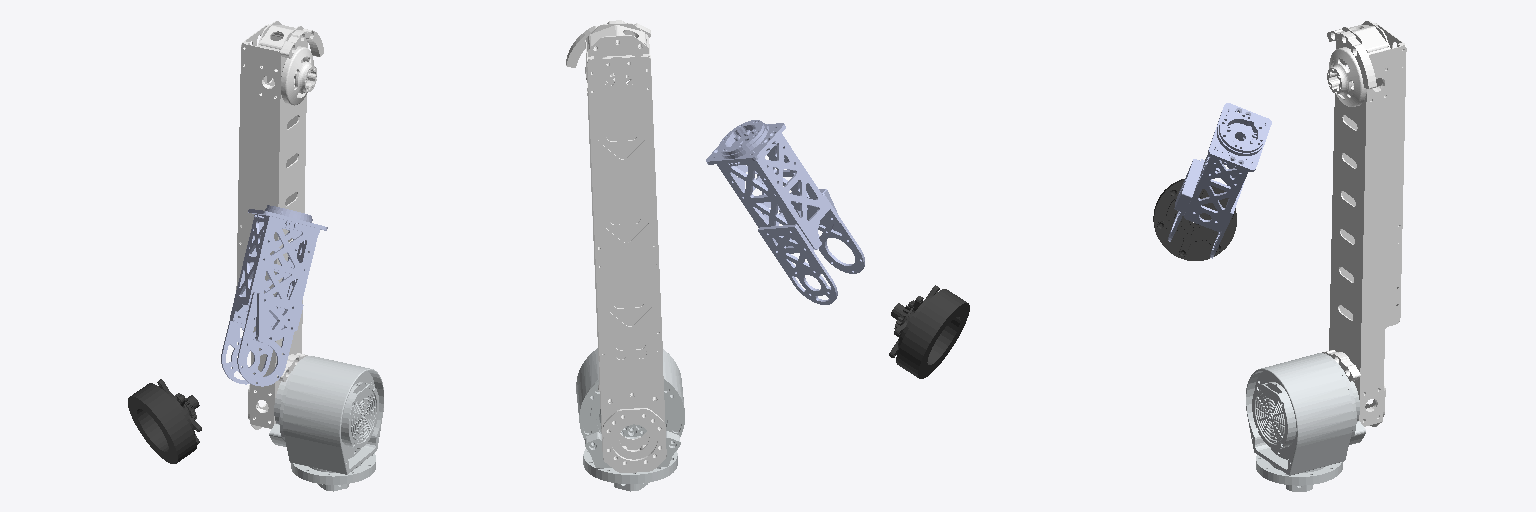
robot.urdf — robo_arm3:
<?xml version="1.0" encoding="utf-8"?>
<!-- This URDF was automatically created by SolidWorks to URDF Exporter! Originally created by Stephen Brawner (brawner@gmail.com) 
     Commit Version: 1.6.0-4-g7f85cfe  Build Version: 1.6.7995.38578
     For more information, please see http://wiki.ros.org/sw_urdf_exporter -->
<robot
  name="robo_arm3">
  <link
    name="base_link">
    <inertial>
      <origin
        xyz="2.77555756156289E-17 1.38777878078145E-17 0.0237295145896128"
        rpy="0 0 0" />
      <mass
        value="0.221707850812672" />
      <inertia
        ixx="0.000129009433567113"
        ixy="-2.11758236813575E-22"
        ixz="2.31857193146065E-21"
        iyy="0.000129009433567113"
        iyz="-3.66288949024306E-21"
        izz="0.000250000920269705" />
    </inertial>
    <visual>
      <origin
        xyz="0 0 0"
        rpy="0 0 0" />
      <geometry>
        <mesh
          filename="package://robo_arm3/meshes/base_link.STL" />
      </geometry>
      <material
        name="">
        <color
          rgba="0.898039215686275 0.917647058823529 0.929411764705882 1" />
      </material>
    </visual>
    <collision>
      <origin
        xyz="0 0 0"
        rpy="0 0 0" />
      <geometry>
        <mesh
          filename="package://robo_arm3/meshes/base_link.STL" />
      </geometry>
    </collision>
  </link>
  <link
    name="link1">
    <inertial>
      <origin
        xyz="0.00885893377945006 0.00538814689358558 0.0542497111605954"
        rpy="0 0 0" />
      <mass
        value="0.862306517383086" />
      <inertia
        ixx="0.00122055217459291"
        ixy="0.000188783434567852"
        ixz="-2.09440902519105E-05"
        iyy="0.00102347352205245"
        iyz="-1.28925300505736E-05"
        izz="0.00083542296676728" />
    </inertial>
    <visual>
      <origin
        xyz="0 0 0"
        rpy="0 0 0" />
      <geometry>
        <mesh
          filename="package://robo_arm3/meshes/link1.STL" />
      </geometry>
      <material
        name="">
        <color
          rgba="0.898039215686275 0.917647058823529 0.929411764705882 1" />
      </material>
    </visual>
    <collision>
      <origin
        xyz="0 0 0"
        rpy="0 0 0" />
      <geometry>
        <mesh
          filename="package://robo_arm3/meshes/link1.STL" />
      </geometry>
    </collision>
  </link>
  <joint
    name="joint1"
    type="revolute">
    <origin
      xyz="0 0 0.0265"
      rpy="0 0 1.5913" />
    <parent
      link="base_link" />
    <child
      link="link1" />
    <axis
      xyz="0 0 1" />
    <limit
      lower="-3.14"
      upper="3.14"
      effort="100"
      velocity="1.0" />
  </joint>
  <link
    name="link2">
    <inertial>
      <origin
        xyz="0.00914938709159289 -0.223210077607143 0.0158533190523229"
        rpy="0 0 0" />
      <mass
        value="0.661322303036156" />
      <inertia
        ixx="0.00637293487461846"
        ixy="0.000224921528381304"
        ixz="-7.43228522352615E-07"
        iyy="0.000334976142936537"
        iyz="2.15552142797675E-05"
        izz="0.00656644630734935" />
    </inertial>
    <visual>
      <origin
        xyz="0 0 0"
        rpy="0 0 0" />
      <geometry>
        <mesh
          filename="package://robo_arm3/meshes/link2.STL" />
      </geometry>
      <material
        name="">
        <color
          rgba="1 1 1 1" />
      </material>
    </visual>
    <collision>
      <origin
        xyz="0 0 0"
        rpy="0 0 0" />
      <geometry>
        <mesh
          filename="package://robo_arm3/meshes/link2.STL" />
      </geometry>
    </collision>
  </link>
  <joint
    name="joint2"
    type="revolute">
    <origin
      xyz="0.047634 0.028871 0.063"
      rpy="-1.5708 0 -1.0259" />
    <parent
      link="link1" />
    <child
      link="link2" />
    <axis
      xyz="0 0 1" />
    <limit
      lower="-3.14"
      upper="3.14"
      effort="100"
      velocity="1.0" />
  </joint>
  <link
    name="link3">
    <inertial>
      <origin
        xyz="-0.0620023031038545 -0.0455638487423945 0.0327349362439363"
        rpy="0 0 0" />
      <mass
        value="0.807641394249707" />
      <inertia
        ixx="0.00066767872189446"
        ixy="2.25053365790237E-05"
        ixz="3.15011398901779E-05"
        iyy="0.000733848433332727"
        iyz="4.66819215050634E-05"
        izz="0.000992283520608319" />
    </inertial>
    <visual>
      <origin
        xyz="0 0 0"
        rpy="0 0 0" />
      <geometry>
        <mesh
          filename="package://robo_arm3/meshes/link3.STL" />
      </geometry>
      <material
        name="">
        <color
          rgba="1 1 1 1" />
      </material>
    </visual>
    <collision>
      <origin
        xyz="0 0 0"
        rpy="0 0 0" />
      <geometry>
        <mesh
          filename="package://robo_arm3/meshes/link3.STL" />
      </geometry>
    </collision>
  </link>
  <joint
    name="joint3"
    type="revolute">
    <origin
      xyz="0.014293 -0.37973 -0.01983"
      rpy="3.1416 0 0" />
    <parent
      link="link2" />
    <child
      link="link3" />
    <axis
      xyz="0 0 1" />
    <limit
      lower="-3.14"
      upper="3.14"
      effort="100"
      velocity="1.0" />
  </joint>
  <link
    name="link4">
    <inertial>
      <origin
        xyz="-0.00188052009846137 -0.00108368002525205 0.05709127235147"
        rpy="0 0 0" />
      <mass
        value="0.22514701547929" />
      <inertia
        ixx="0.000159095632046613"
        ixy="1.18532482413415E-05"
        ixz="-2.80019629570859E-07"
        iyy="0.000157576632192916"
        iyz="-1.45753455561238E-06"
        izz="6.58406672377939E-05" />
    </inertial>
    <visual>
      <origin
        xyz="0 0 0"
        rpy="0 0 0" />
      <geometry>
        <mesh
          filename="package://robo_arm3/meshes/link4.STL" />
      </geometry>
      <material
        name="">
        <color
          rgba="0.792156862745098 0.819607843137255 0.933333333333333 1" />
      </material>
    </visual>
    <collision>
      <origin
        xyz="0 0 0"
        rpy="0 0 0" />
      <geometry>
        <mesh
          filename="package://robo_arm3/meshes/link4.STL" />
      </geometry>
    </collision>
  </link>
  <joint
    name="joint4"
    type="revolute">
    <origin
      xyz="-0.12605 -0.10488 0.039"
      rpy="2.1056 1.5708 0" />
    <parent
      link="link3" />
    <child
      link="link4" />
    <axis
      xyz="0 0 1" />
    <limit
      lower="-3.14"
      upper="3.14"
      effort="100"
      velocity="1.0" />
  </joint>
  <link
    name="link5">
    <inertial>
      <origin
        xyz="0.0149119254197924 -0.0365087059040325 -0.0323232557121219"
        rpy="0 0 0" />
      <mass
        value="0.273022738659567" />
      <inertia
        ixx="8.05273171840646E-05"
        ixy="7.07220189991853E-06"
        ixz="3.18027081368875E-07"
        iyy="6.39660904488315E-05"
        iyz="1.43872630376063E-07"
        izz="9.49728955887301E-05" />
    </inertial>
    <visual>
      <origin
        xyz="0 0 0"
        rpy="0 0 0" />
      <geometry>
        <mesh
          filename="package://robo_arm3/meshes/link5.STL" />
      </geometry>
      <material
        name="">
        <color
          rgba="0.698039215686274 0.698039215686274 0.698039215686274 1" />
      </material>
    </visual>
    <collision>
      <origin
        xyz="0 0 0"
        rpy="0 0 0" />
      <geometry>
        <mesh
          filename="package://robo_arm3/meshes/link5.STL" />
      </geometry>
    </collision>
  </link>
  <joint
    name="joint5"
    type="revolute">
    <origin
      xyz="0.022442 0.021385 0.1572"
      rpy="-1.5708 0.40513 -0.80951" />
    <parent
      link="link4" />
    <child
      link="link5" />
    <axis
      xyz="0 0 -1" />
    <limit
      lower="-3.14"
      upper="3.14"
      effort="100"
      velocity="1.0" />
  </joint>
  <link
    name="link6">
    <inertial>
      <origin
        xyz="2.61474175644594E-12 -1.08160147505032E-11 0.0209120782492087"
        rpy="0 0 0" />
      <mass
        value="0.195591531279453" />
      <inertia
        ixx="0.000110653138879896"
        ixy="-2.25141357380193E-17"
        ixz="7.45388993583784E-19"
        iyy="0.000110653138879876"
        iyz="-3.25430058335102E-18"
        izz="0.000192692857611488" />
    </inertial>
    <visual>
      <origin
        xyz="0 0 0"
        rpy="0 0 0" />
      <geometry>
        <mesh
          filename="package://robo_arm3/meshes/link6.STL" />
      </geometry>
      <material
        name="">
        <color
          rgba="0.298039215686275 0.298039215686275 0.298039215686275 1" />
      </material>
    </visual>
    <collision>
      <origin
        xyz="0 0 0"
        rpy="0 0 0" />
      <geometry>
        <mesh
          filename="package://robo_arm3/meshes/link6.STL" />
      </geometry>
    </collision>
  </link>
  <joint
    name="joint6"
    type="revolute">
    <origin
      xyz="0.032595 -0.090802 -0.032"
      rpy="1.5708 0.73257 0.34464" />
    <parent
      link="link5" />
    <child
      link="link6" />
    <axis
      xyz="0 0 1" />
    <limit
      lower="-3.14"
      upper="3.14"
      effort="100"
      velocity="1.0" />
  </joint>
</robot>

--- What the picture shows (computed from the rendered views, not written in the file) ---
The picture shows the robot from 3 angles, left to right: view 1: azimuth 30°, elevation 25°; view 2: azimuth 150°, elevation 25°; view 3: azimuth 270°, elevation 25°; orthographic projection.
Robot: robo_arm3 — 7 links, 6 joints (6 revolute); root link base_link; default pose: every joint at zero.
Visible links, largest first — view 1: link2, link4, link1, link6, base_link; view 2: link2, link4, link6, link1, base_link; view 3: link2, link1, link4, link6, base_link.
Boxes of the visible links, x1=… form: link2: x1=236, y1=21, x2=323, y2=429; link4: x1=221, y1=205, x2=327, y2=386; link1: x1=269, y1=356, x2=383, y2=474; link6: x1=128, y1=379, x2=201, y2=463; base_link: x1=291, y1=453, x2=375, y2=491; link2: x1=566, y1=20, x2=666, y2=472; link4: x1=706, y1=120, x2=864, y2=304; link6: x1=889, y1=285, x2=969, y2=378; link1: x1=576, y1=348, x2=684, y2=468; base_link: x1=583, y1=449, x2=677, y2=491; link2: x1=1322, y1=21, x2=1406, y2=426; link1: x1=1246, y1=353, x2=1365, y2=475; link4: x1=1168, y1=103, x2=1271, y2=258; link6: x1=1153, y1=179, x2=1236, y2=260; base_link: x1=1256, y1=455, x2=1342, y2=491.
Size in the robot's own frame: 0.3678 by 0.2678 by 0.5226 metres.
Meshes: 7 distinct files referenced, 5 mesh visuals loaded (5 binary STL); not drawn: 2 (reference not matched to a file when rendering).
